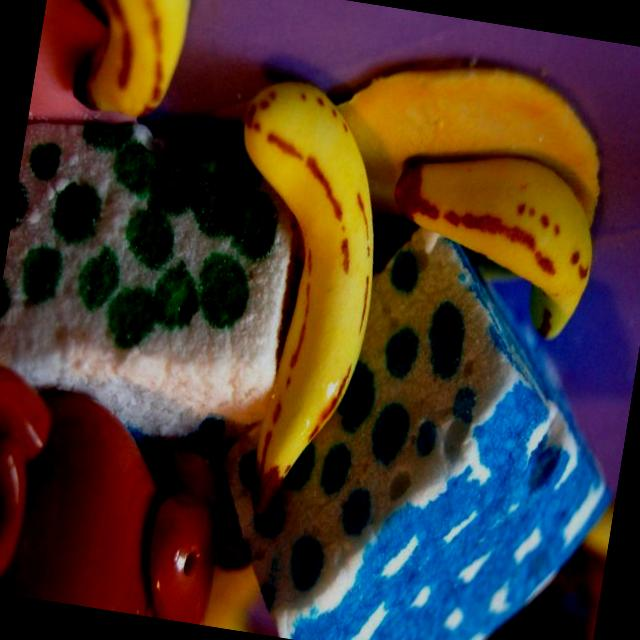Banana: (183, 72, 404, 530), (376, 140, 606, 346), (42, 0, 196, 125)
